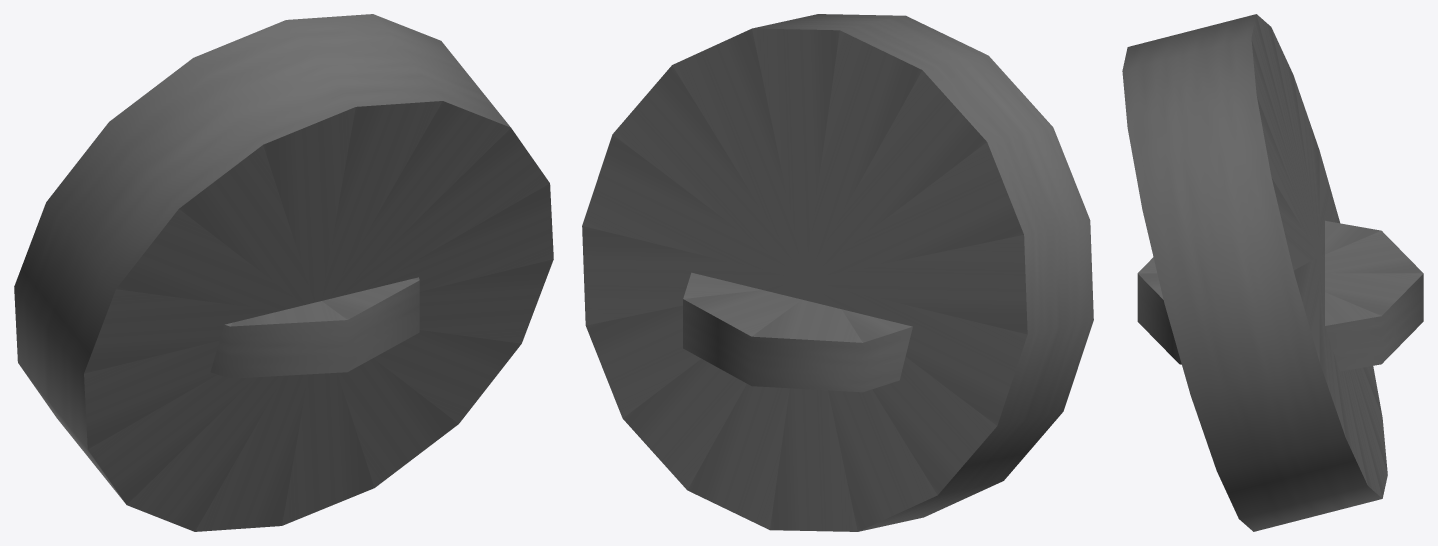
File: mastarmcurve_5x1_c1_up.obj
3 views of the same model, side by side, from view 1: azimuth 30°, elevation 25°; view 2: azimuth 150°, elevation 25°; view 3: azimuth 270°, elevation 25° (orthographic). The views are drawn at different scales.
Visible parts, largest first — view 1: mastarm_5x1_c1_up; view 2: mastarm_5x1_c1_up; view 3: mastarm_5x1_c1_up.
Boxes of the visible parts, bbox=[...] form: mastarm_5x1_c1_up: bbox=[14, 14, 553, 531]; mastarm_5x1_c1_up: bbox=[582, 14, 1093, 531]; mastarm_5x1_c1_up: bbox=[1122, 14, 1423, 531].
Size of the model in its own units: 0.7009 by 0.7255 by 0.4211.
